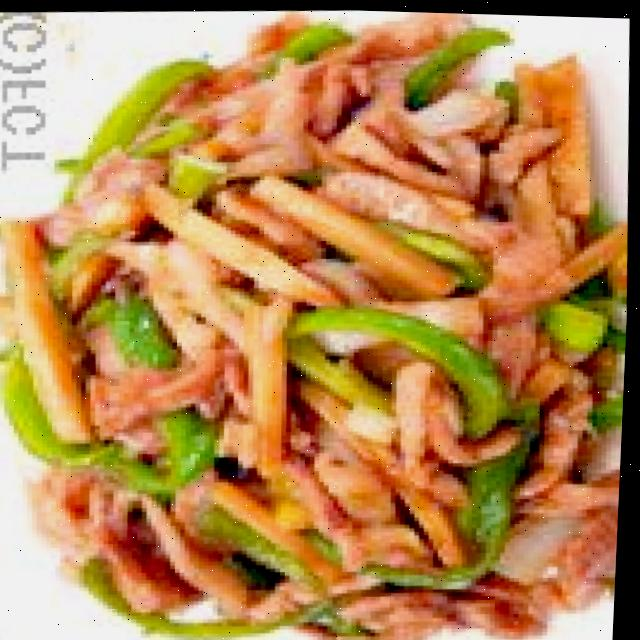牛肉菜式: (29, 1, 640, 640)
